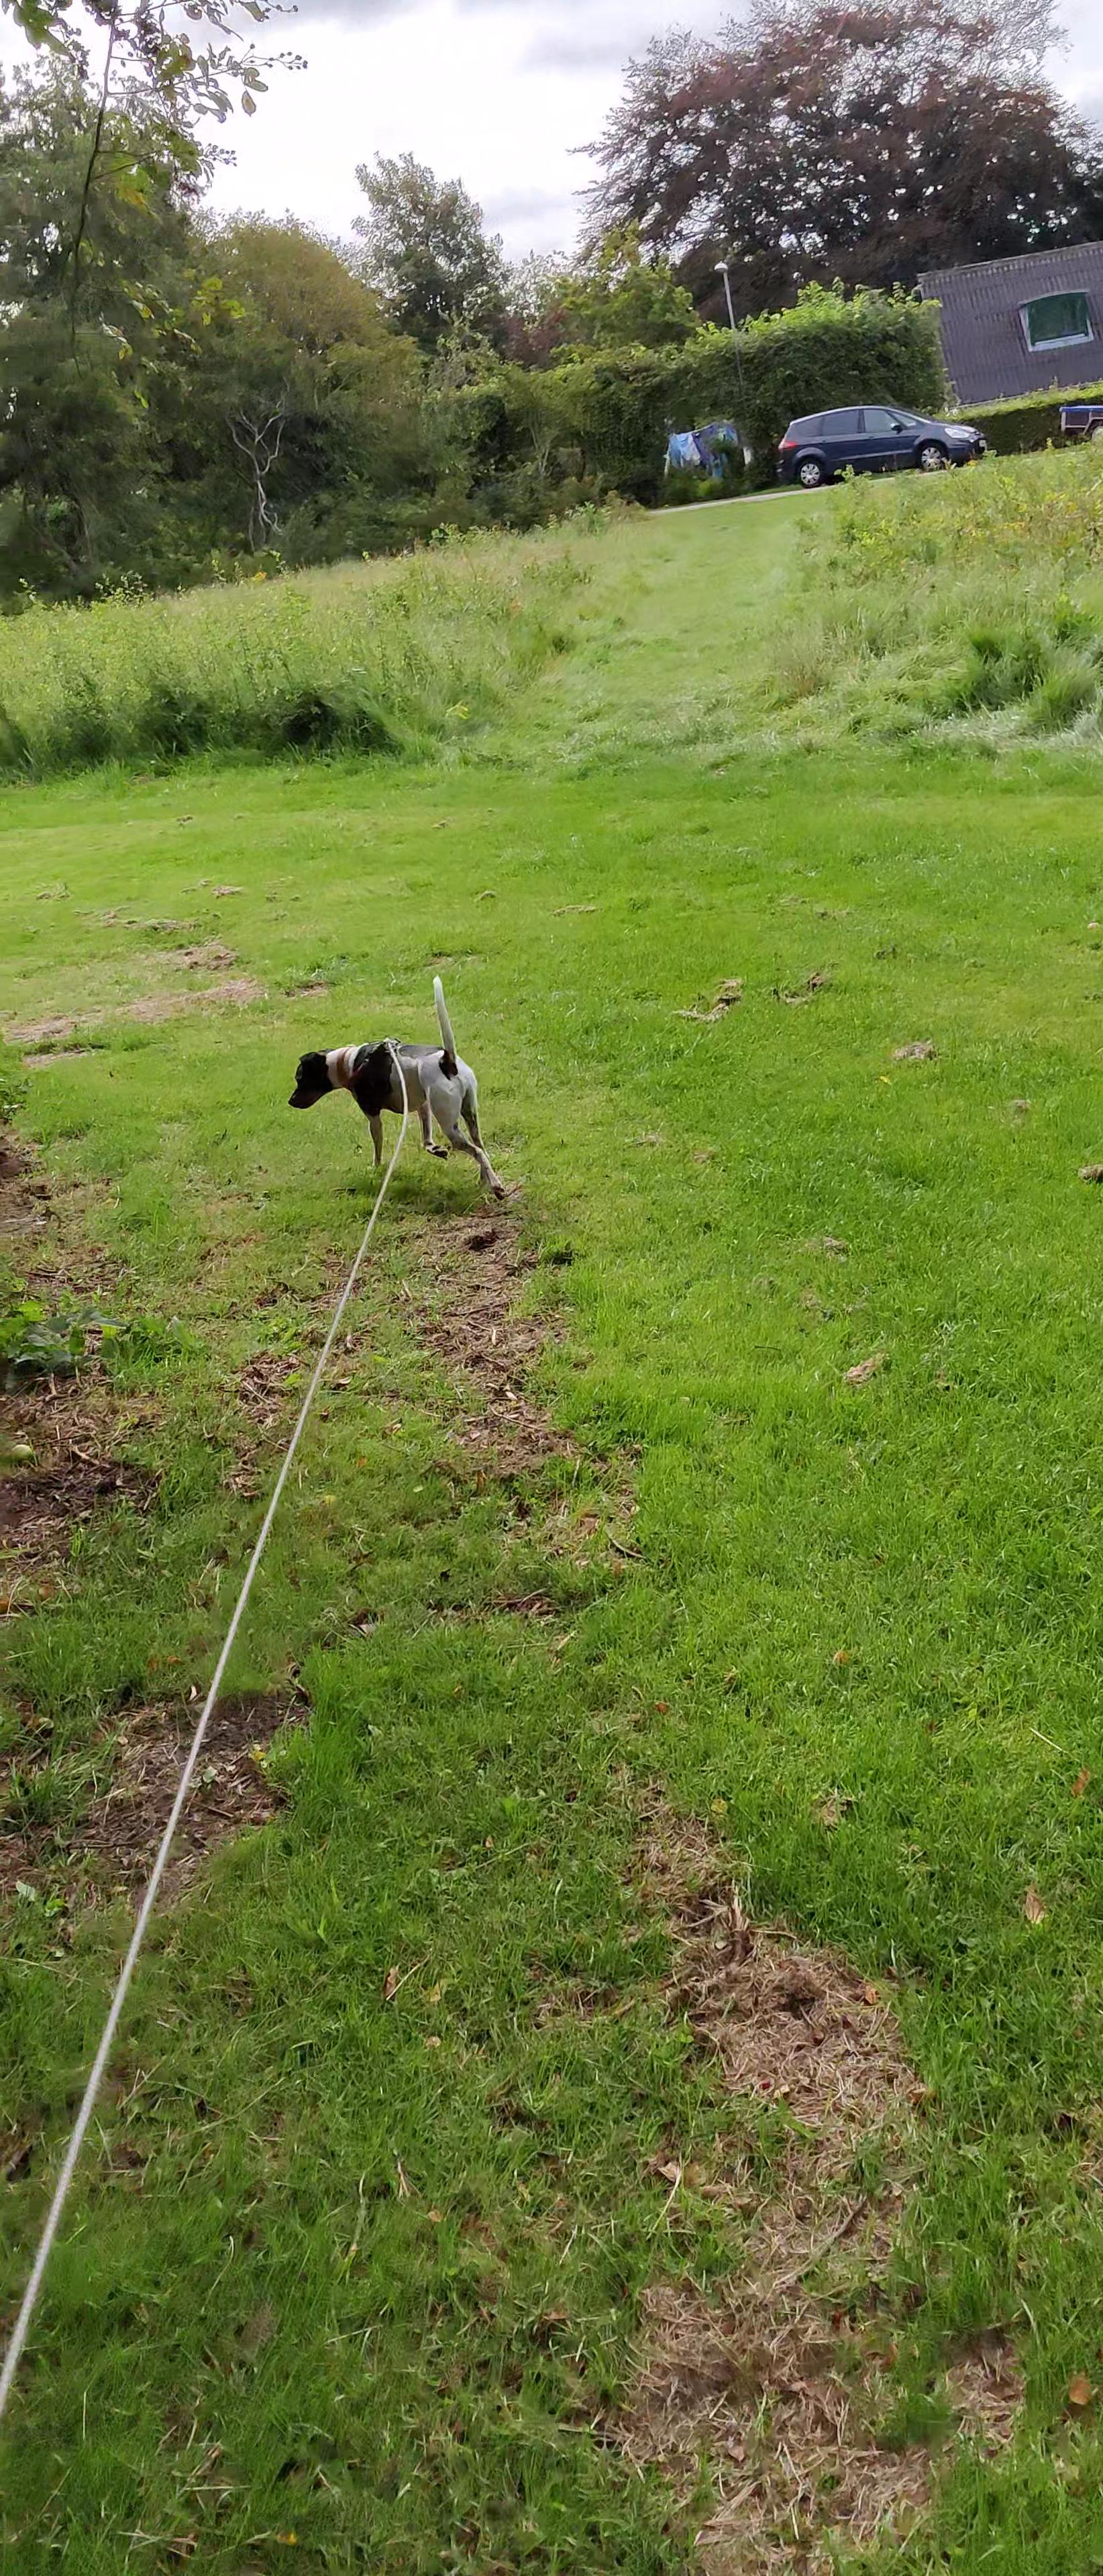Dog: (276, 971, 511, 1204)
